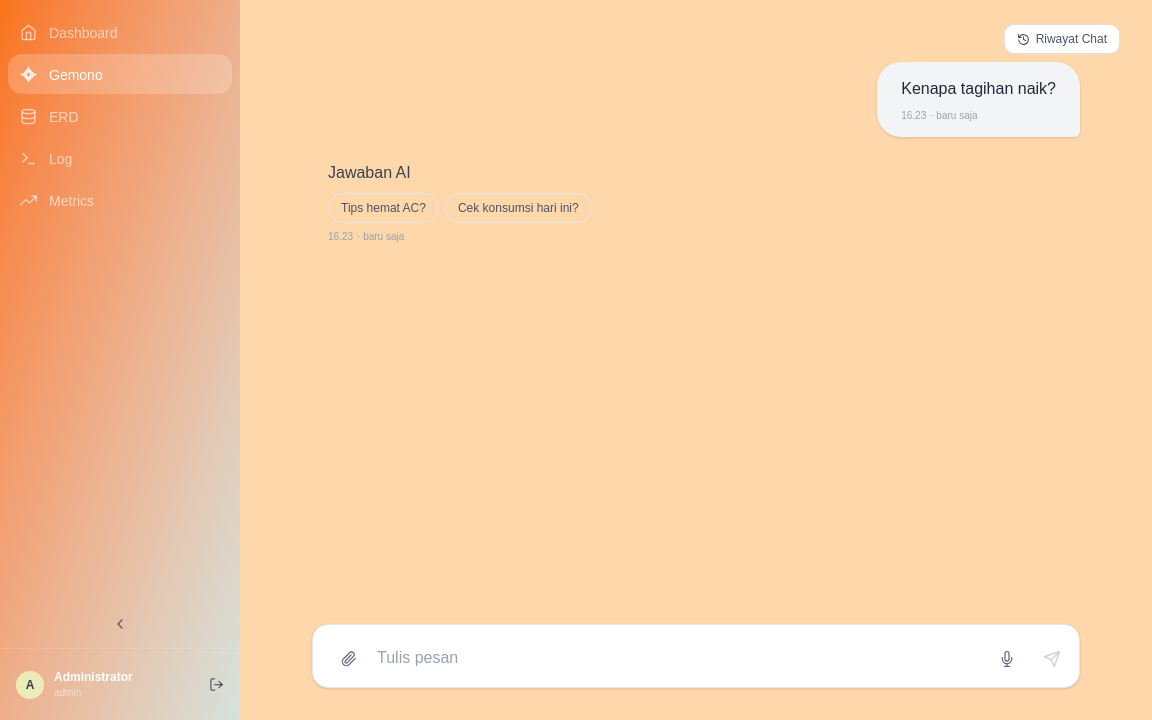
Test: AgentPage › memisahkan trailer suggestions dari teks dan merender chips yang bisa diklik
What coordinates should you click on to do the following:
click the button "Tips hemat AC?"
I would click on:
 (383, 208)
Its box is [328, 193, 439, 223].
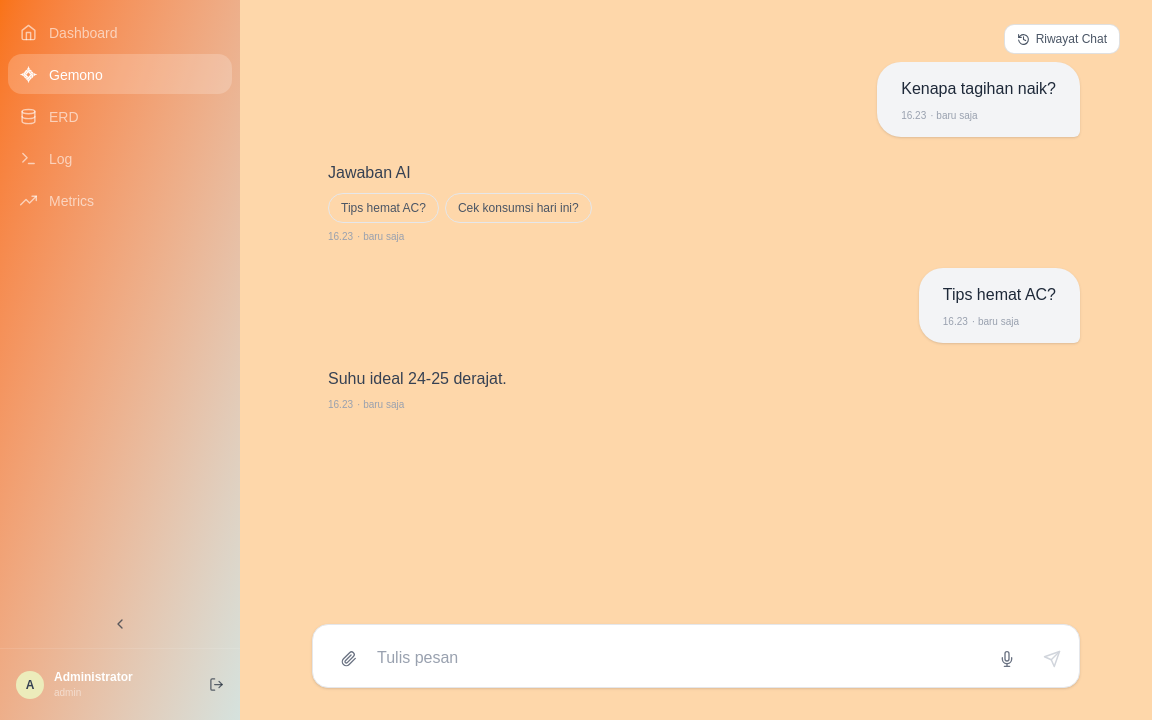
Expected: the text "Suhu ideal 24-25 derajat." is shown, [328, 370, 507, 387]
